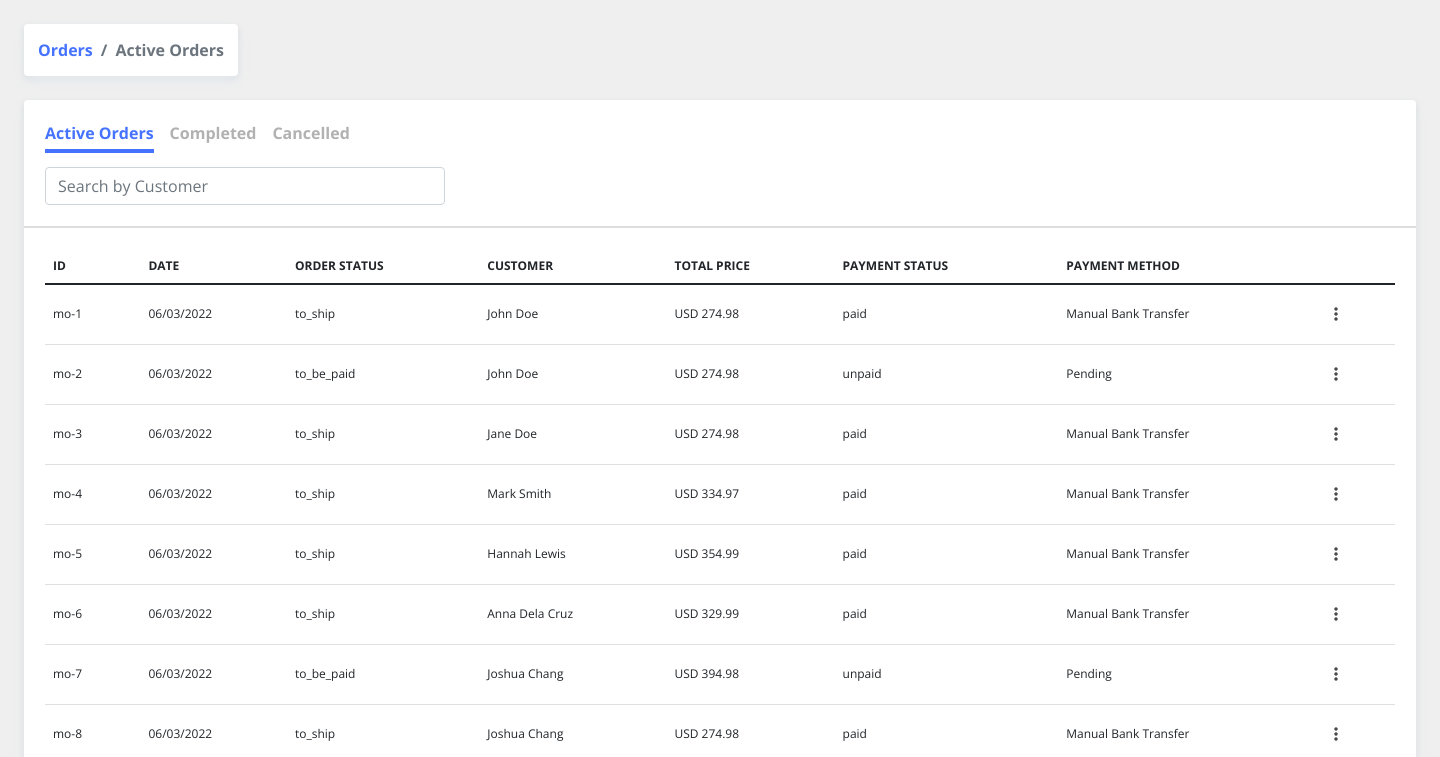
renders order details dialog upon click of row
Click the row with test id "order-list-row-mo-1": click(720, 314) [45,284,1395,344]
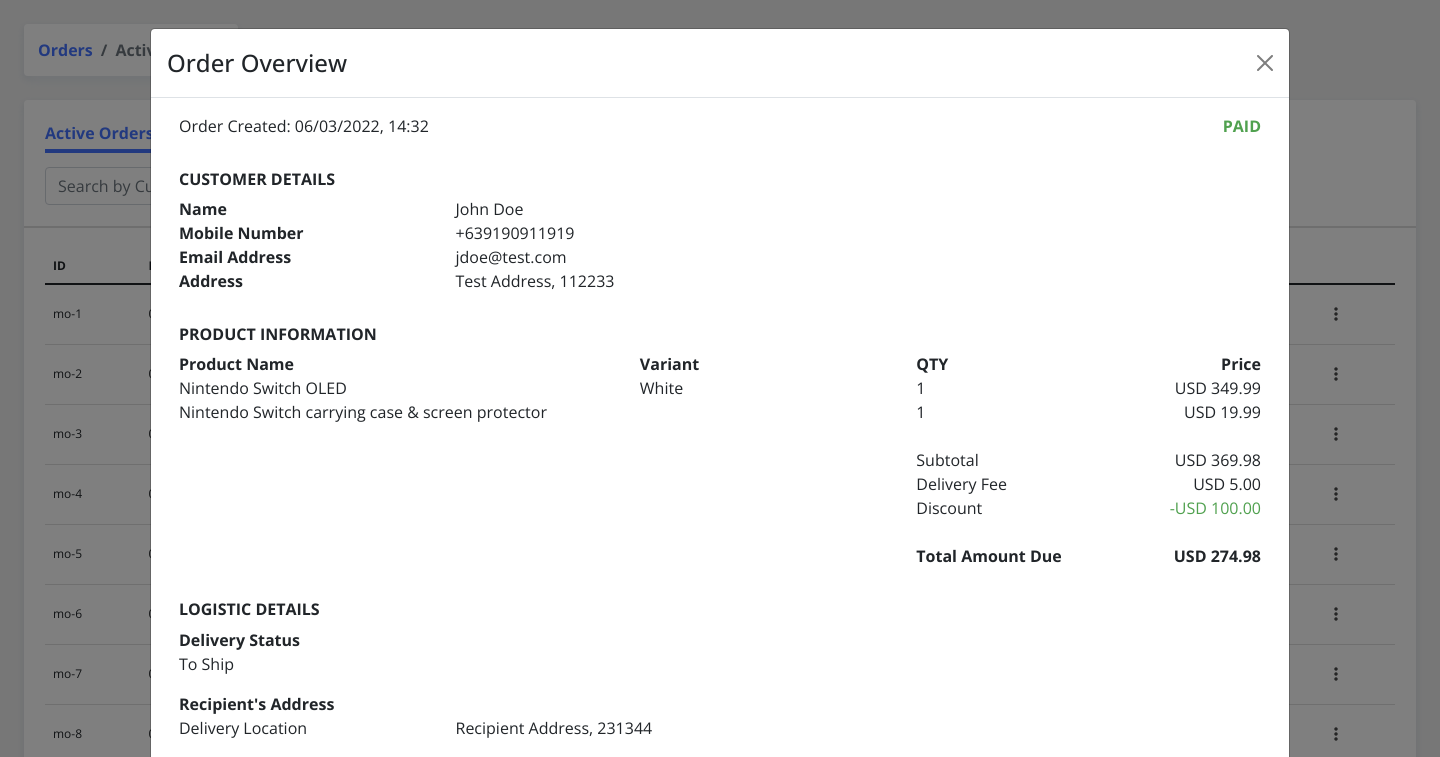
expect the text "Order Overview" is shown: met, box [167,45,347,81]
